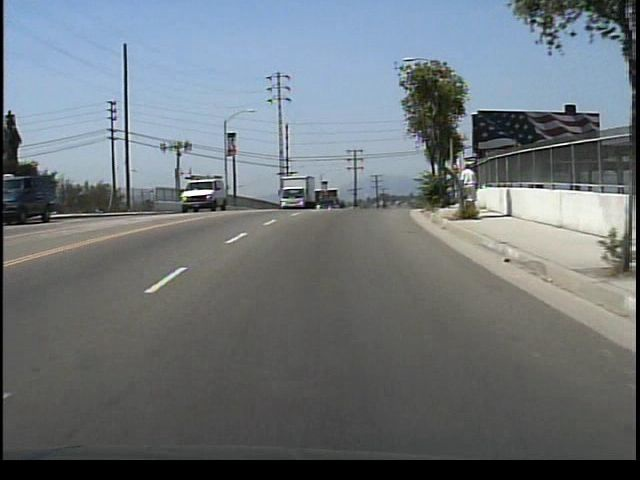person: (455, 162, 480, 218)
